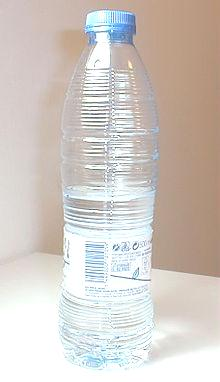bottle: (51, 2, 166, 376)
